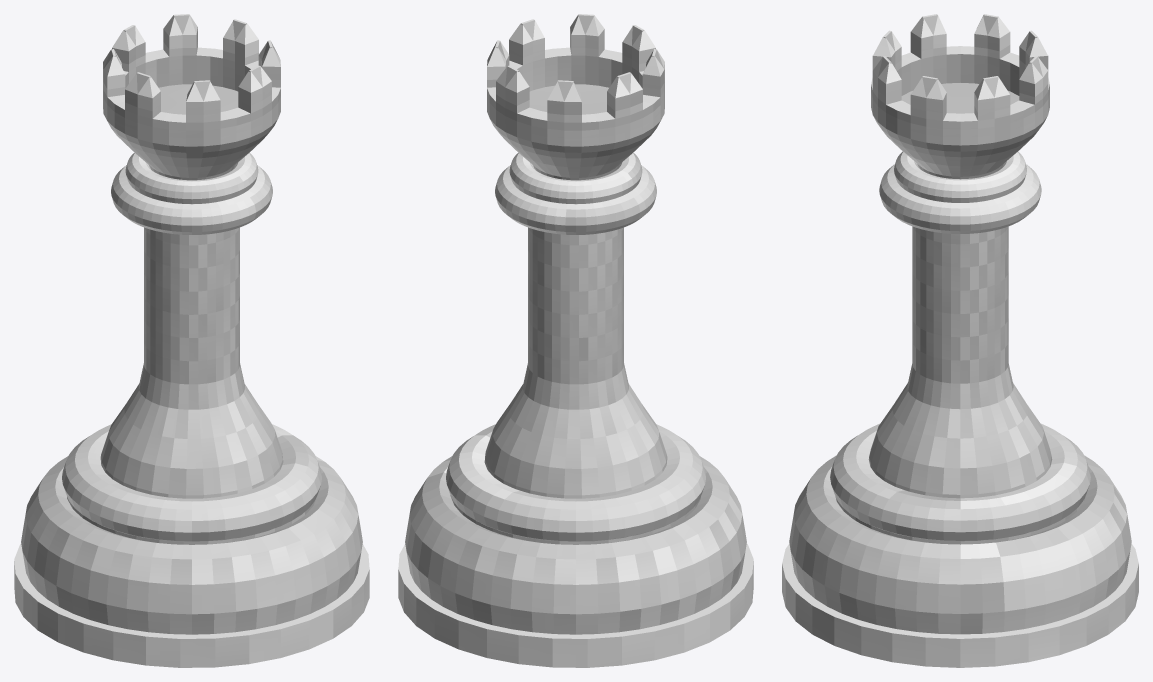
Rendered from Queen.fbx.
3 views of the same model, side by side, from view 1: azimuth 30°, elevation 25°; view 2: azimuth 150°, elevation 25°; view 3: azimuth 270°, elevation 25° (orthographic).
Visible parts, largest first — view 1: QueenWhite; view 2: QueenWhite; view 3: QueenWhite.
Part boxes in pixels (bbox=[...]): QueenWhite: bbox=[14, 14, 369, 667]; QueenWhite: bbox=[398, 14, 753, 667]; QueenWhite: bbox=[782, 14, 1138, 667].
Bounding box in the file's own units: 81.42 × 138 × 81.42.
